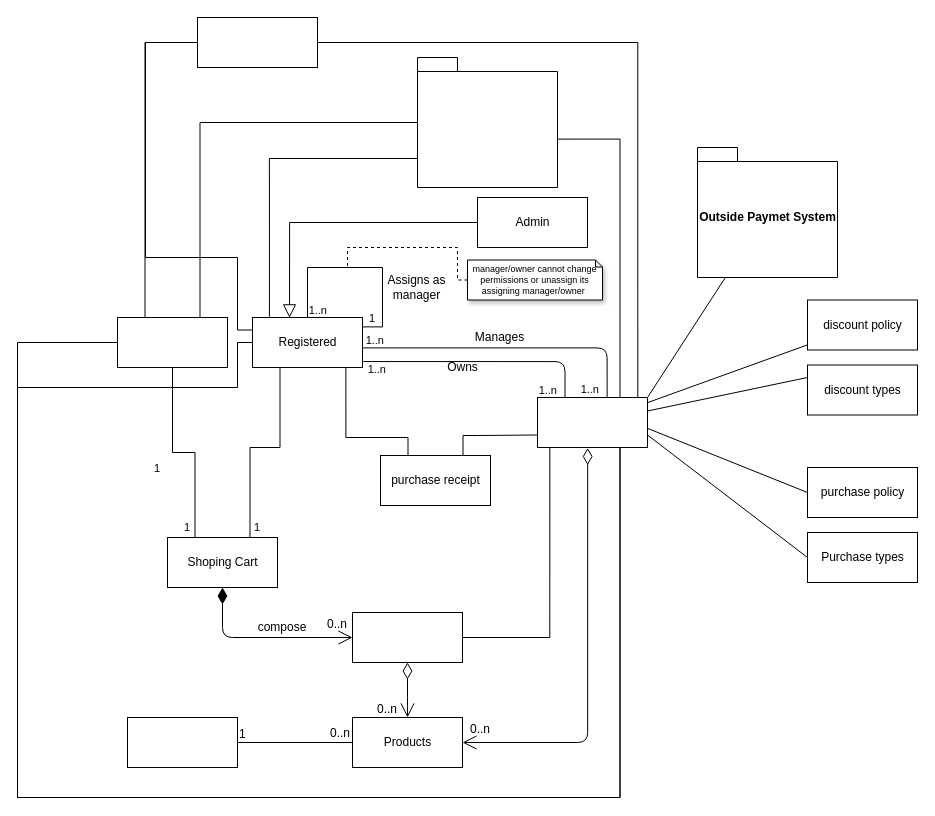
Some shapes in this 935 by 816 pixel diagram are drawn without their labels. The shapes that lost their labels are listed below. From the top down, each one's centre as x and y in pixels, then its label:
the point at 257,42: Permissions Manager
the point at 487,122: Outside Supply System
the point at 172,342: Guest
the point at 592,422: Store
the point at 407,637: Shoping Basket
the point at 182,742: ProductInfo
